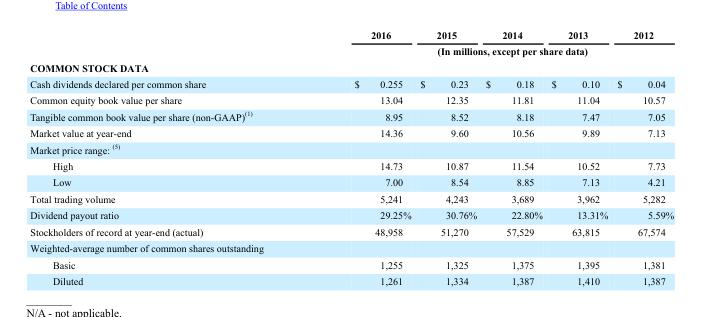table: (29, 28, 673, 286)
table column: (29, 28, 302, 286), (302, 28, 414, 286), (414, 28, 480, 286), (480, 28, 546, 286), (546, 28, 611, 286), (611, 28, 673, 286)
table column header: (29, 28, 673, 58)
table projected row header: (29, 58, 673, 75), (29, 140, 673, 157), (29, 239, 673, 255)
table row: (29, 58, 673, 75), (29, 107, 673, 124), (29, 140, 673, 157), (29, 173, 673, 190), (29, 206, 673, 223), (29, 255, 673, 272), (29, 42, 673, 58), (29, 75, 673, 91), (29, 91, 673, 107), (29, 124, 673, 140), (29, 157, 673, 173), (29, 190, 673, 206), (29, 223, 673, 239), (29, 239, 673, 255), (29, 28, 673, 42), (29, 272, 673, 286)
table spanning cell: (302, 42, 673, 58)
